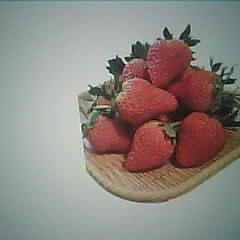straw-ripe: (177, 112, 225, 167), (116, 80, 177, 121), (126, 121, 176, 170), (147, 38, 192, 86)
